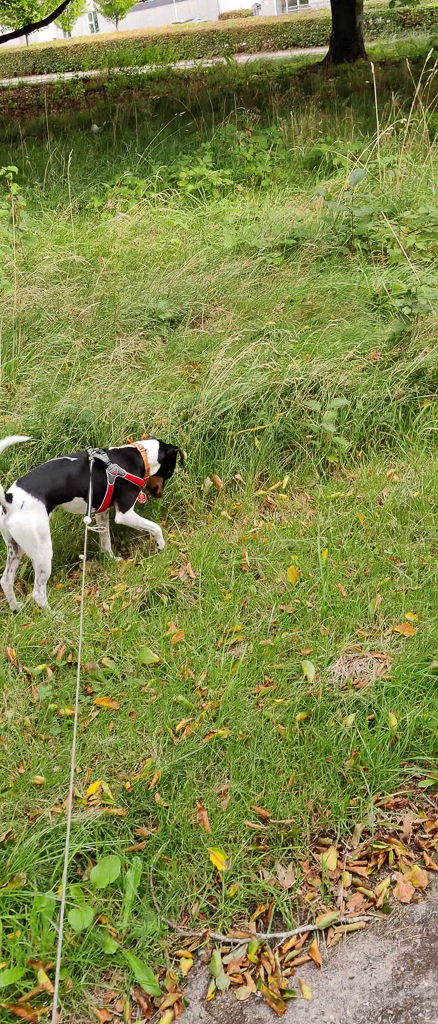Dog: (0, 411, 190, 632)
